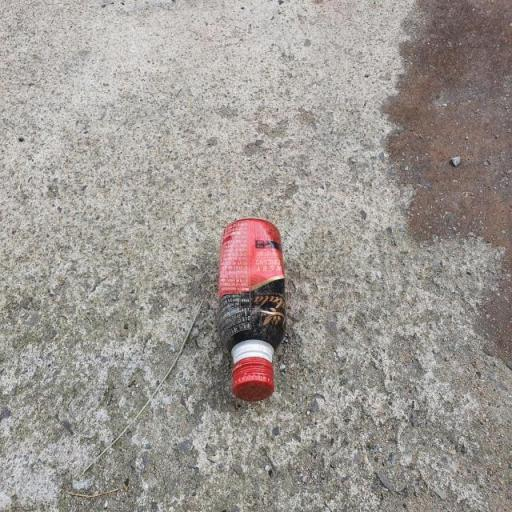metal: (205, 204, 304, 408)
